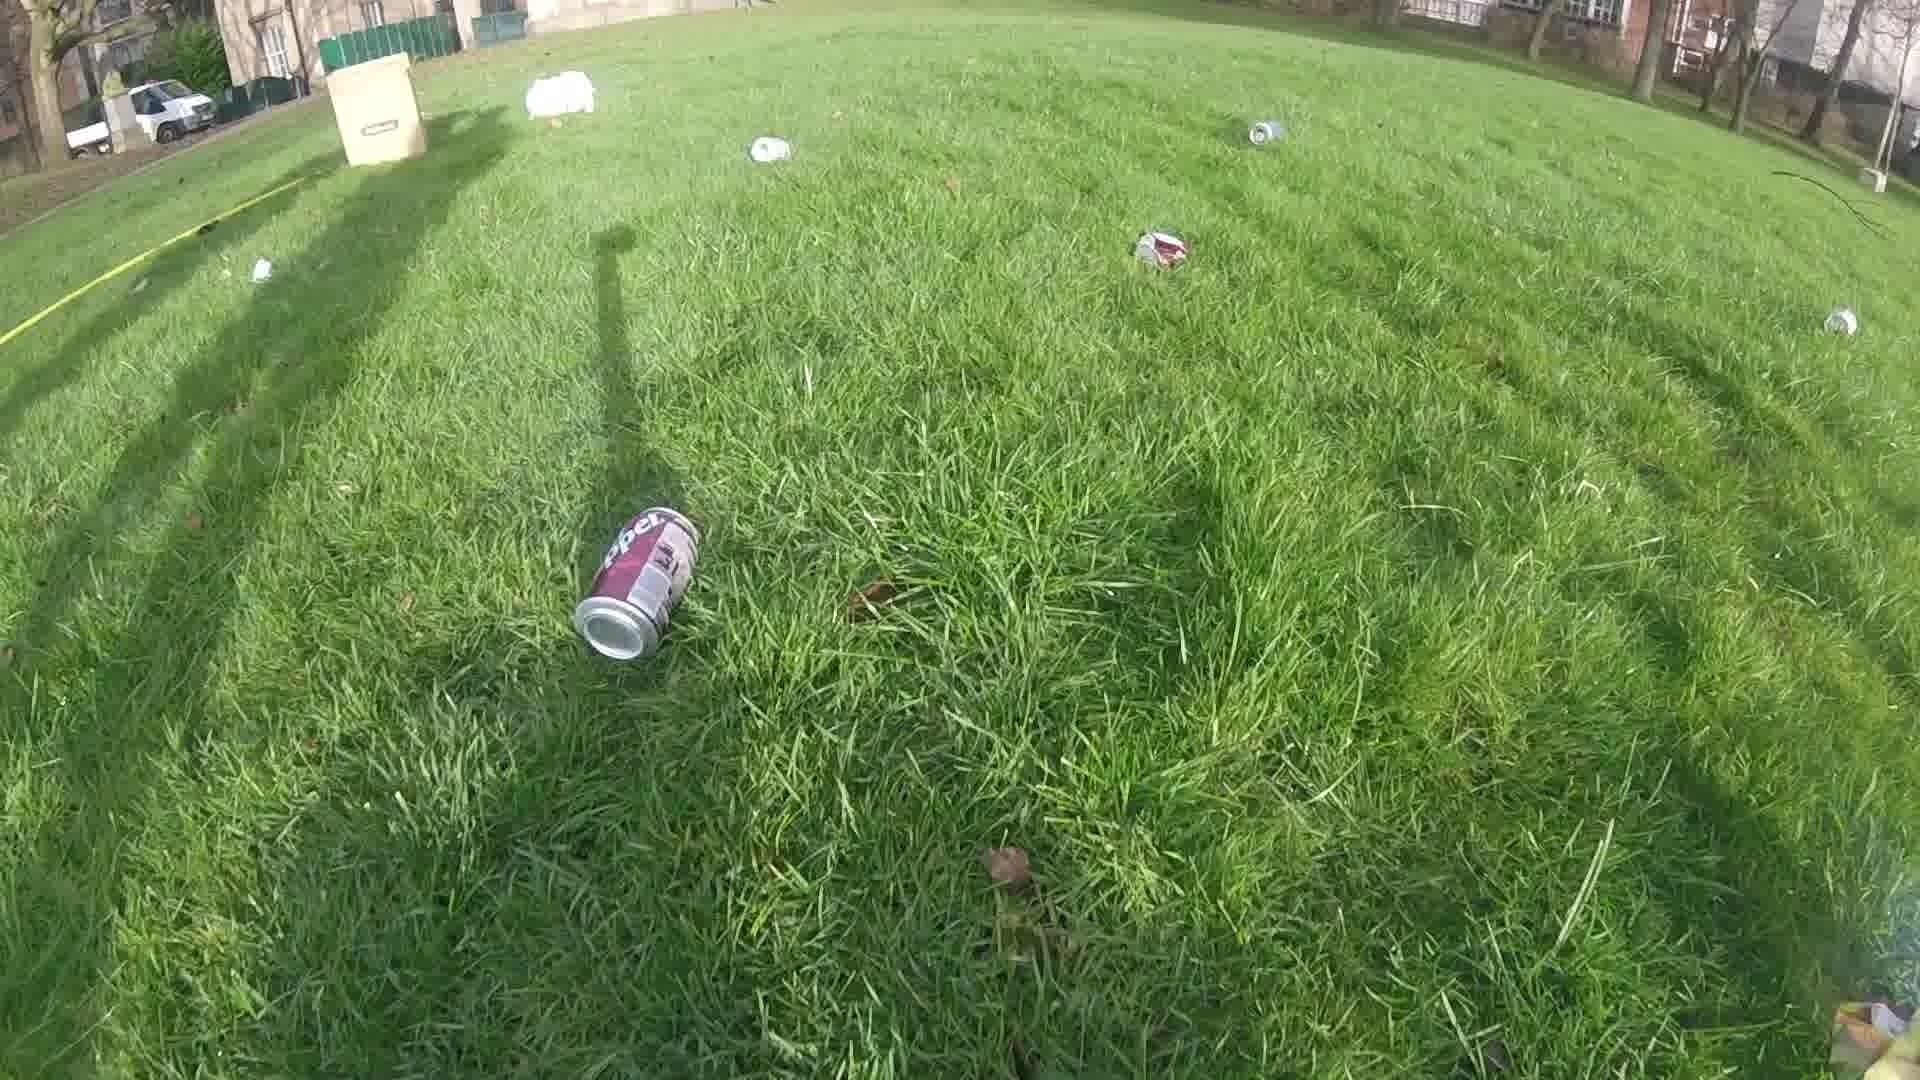litter: (574, 504, 696, 655), (322, 51, 429, 166), (1832, 997, 1917, 1077), (521, 71, 595, 116), (1135, 229, 1184, 272), (746, 135, 789, 164), (1821, 311, 1855, 340), (1246, 119, 1280, 146), (249, 257, 273, 282)
